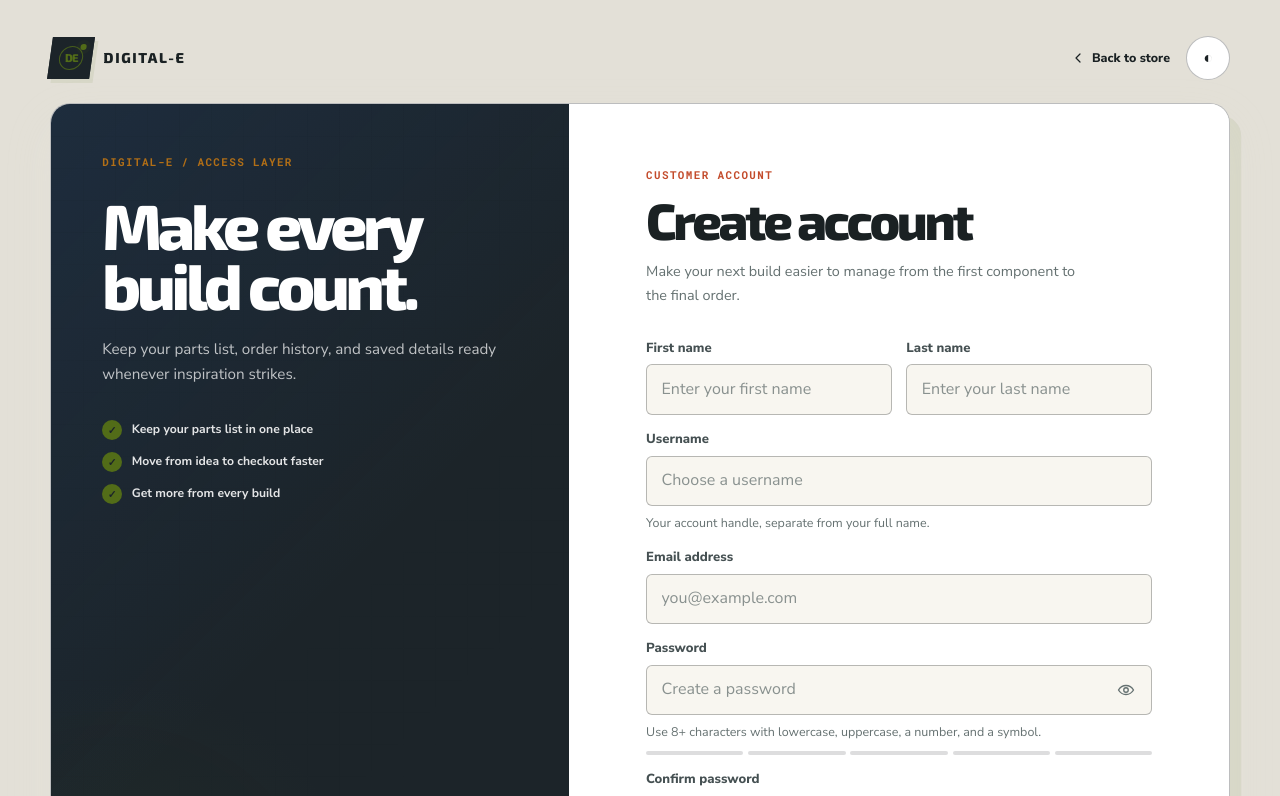
Scenario: SignupPage Firebase verification › enables signup only after every mandatory field is filled
This screenshot has width=1280, height=796.
Type "Demo" into the field labelled "First name" at (769, 390), box [646, 364, 892, 415]
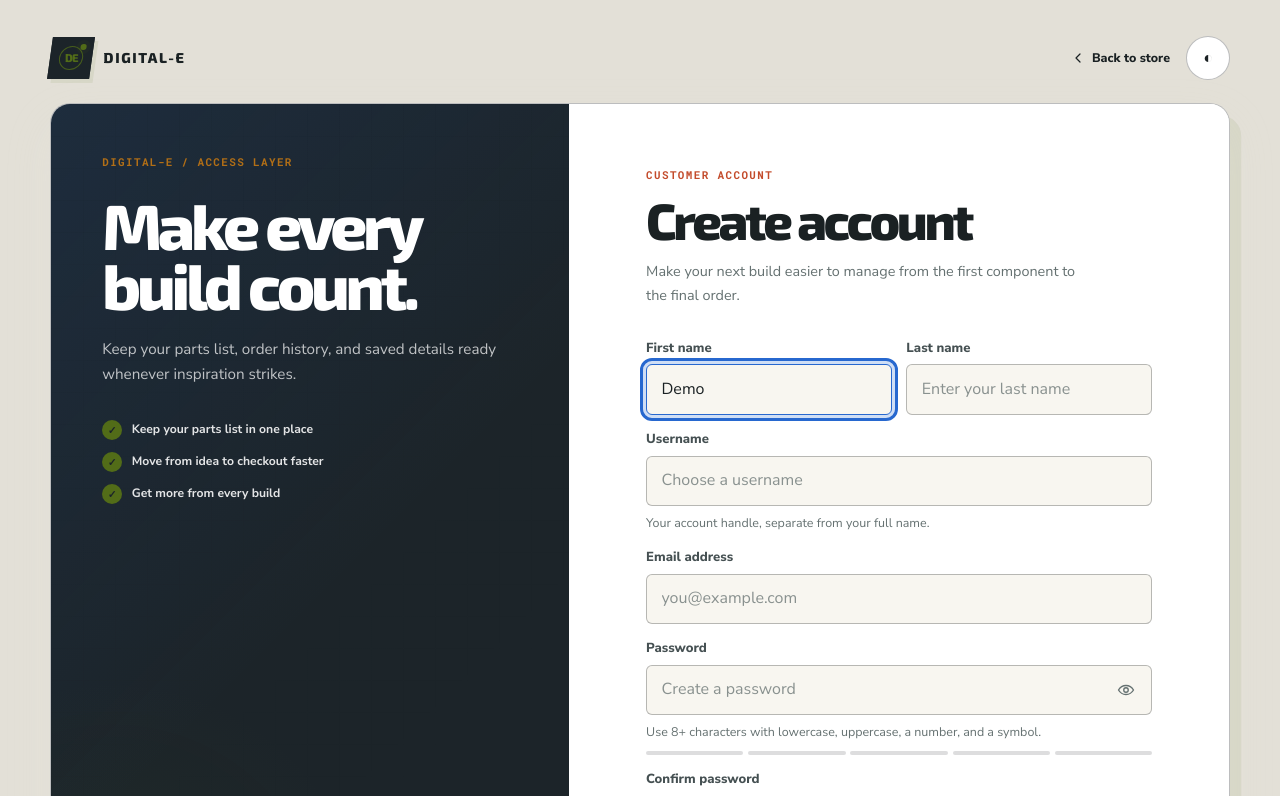
Type "Customer" into the field labelled "Last name" at (1029, 390), box [906, 364, 1152, 415]
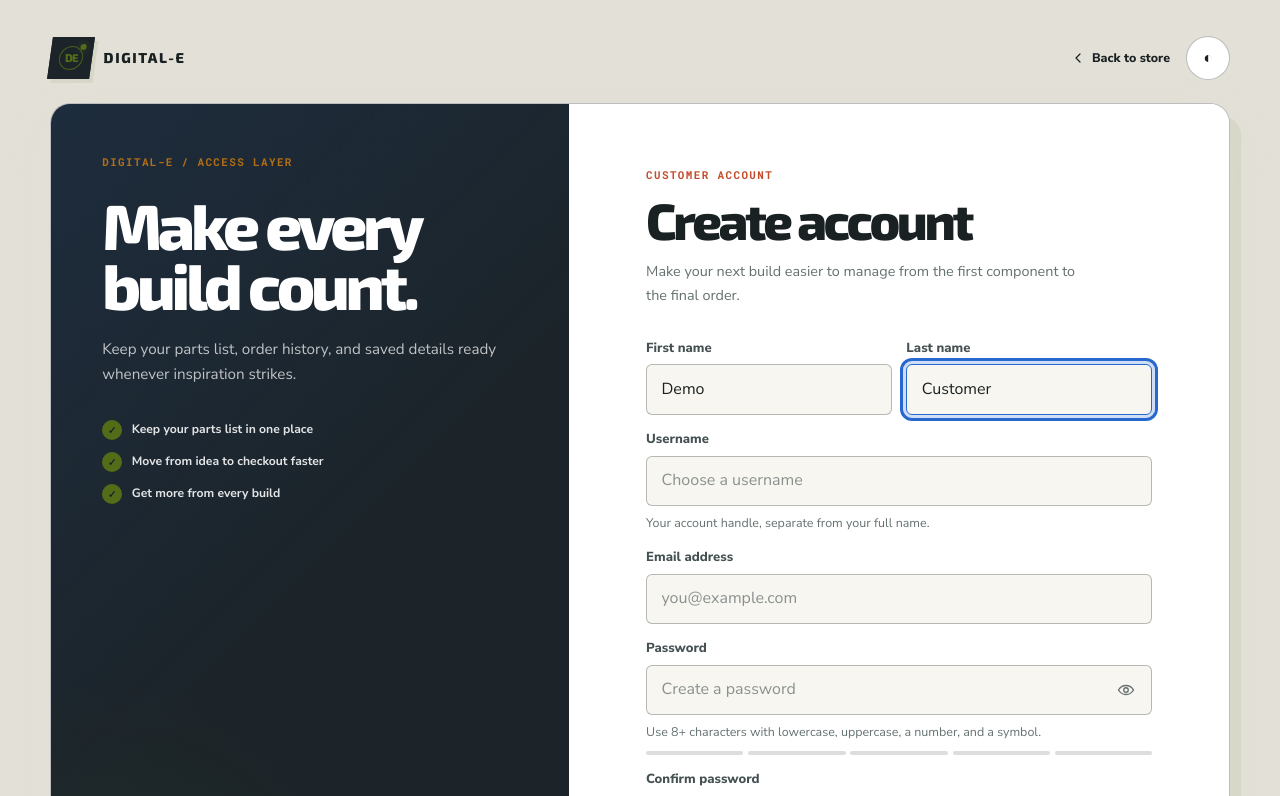
Type "customer" into the field labelled "Username" at (899, 481), box [646, 456, 1152, 506]
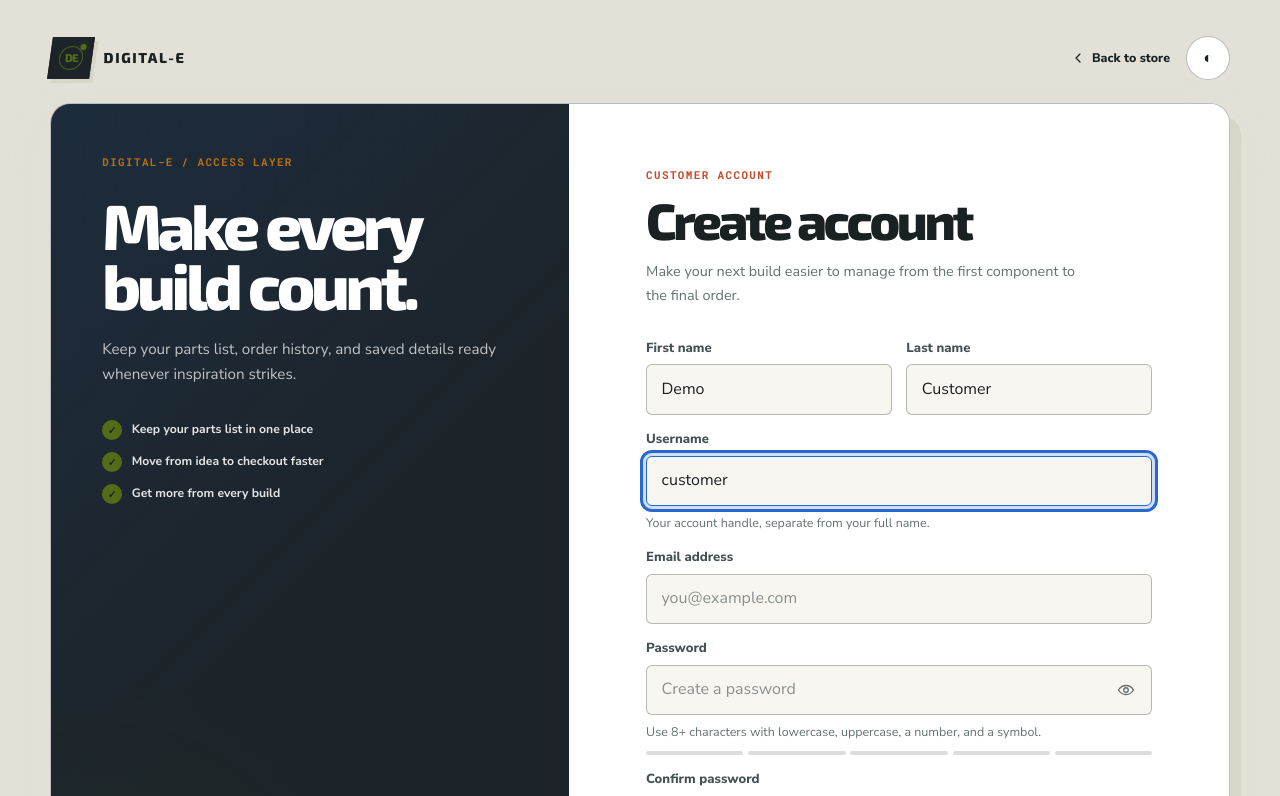
Type "customer@example.com" into the field labelled "Email address" at (899, 599), box [646, 574, 1152, 624]
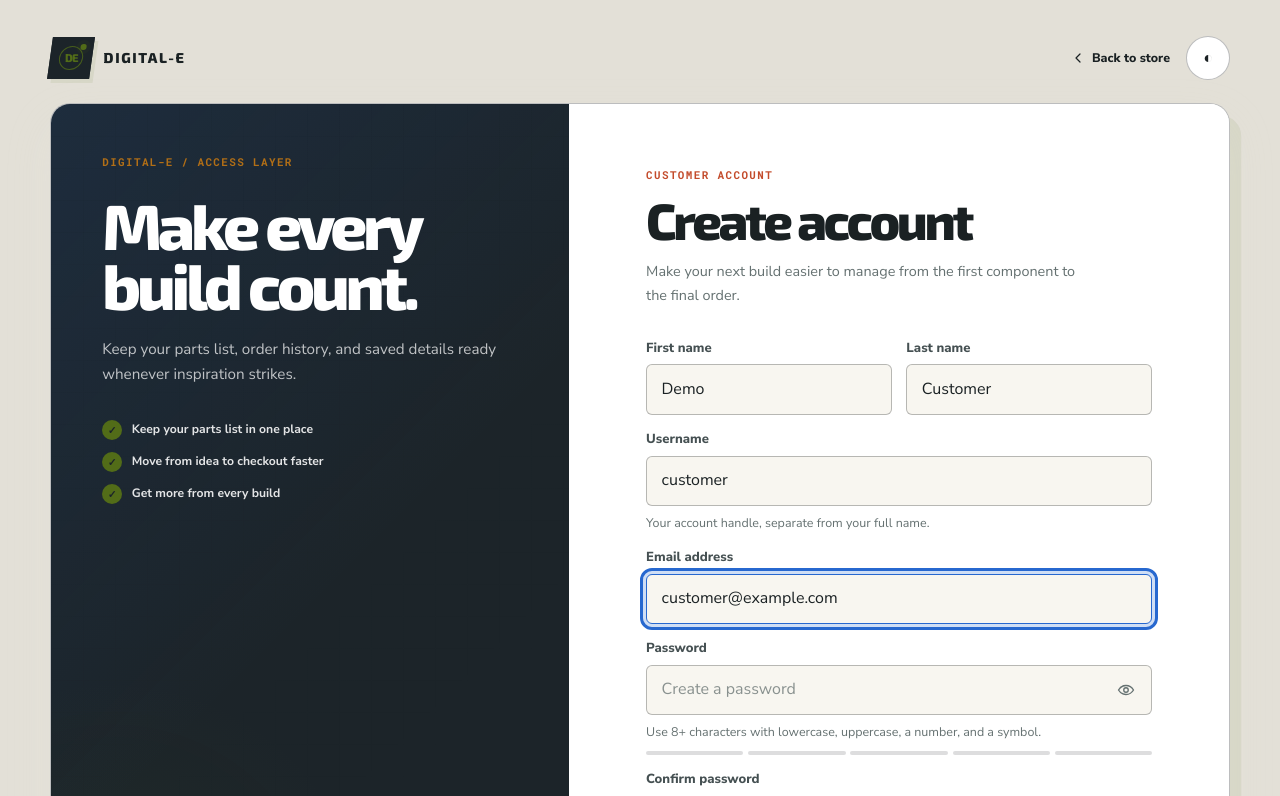
Type "Password1!" into the password field labelled "Password" at (899, 690), box [646, 665, 1152, 715]
(page scrolled)
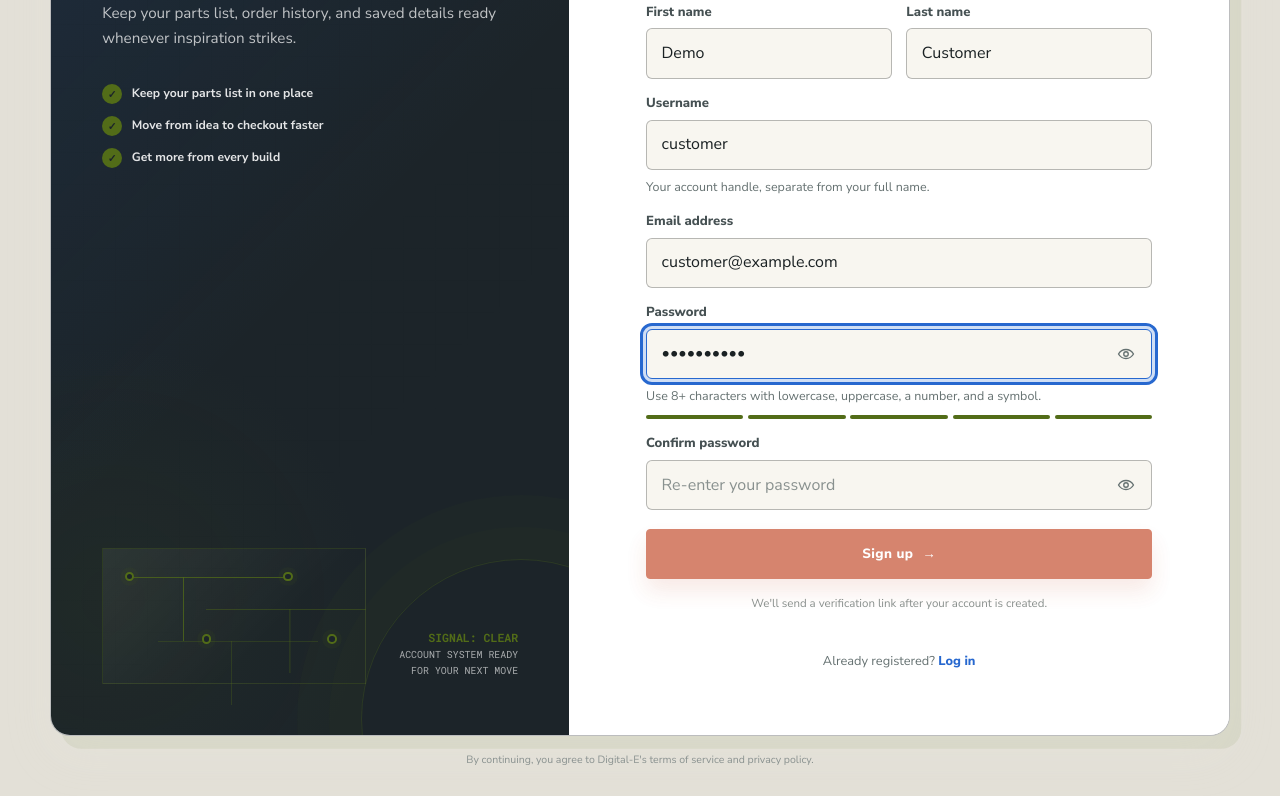
Check: the button "Sign up →" is disabled, box [646, 529, 1152, 579]
Type "Password1!" into the password field labelled "Confirm password" at (899, 485), box [646, 460, 1152, 510]
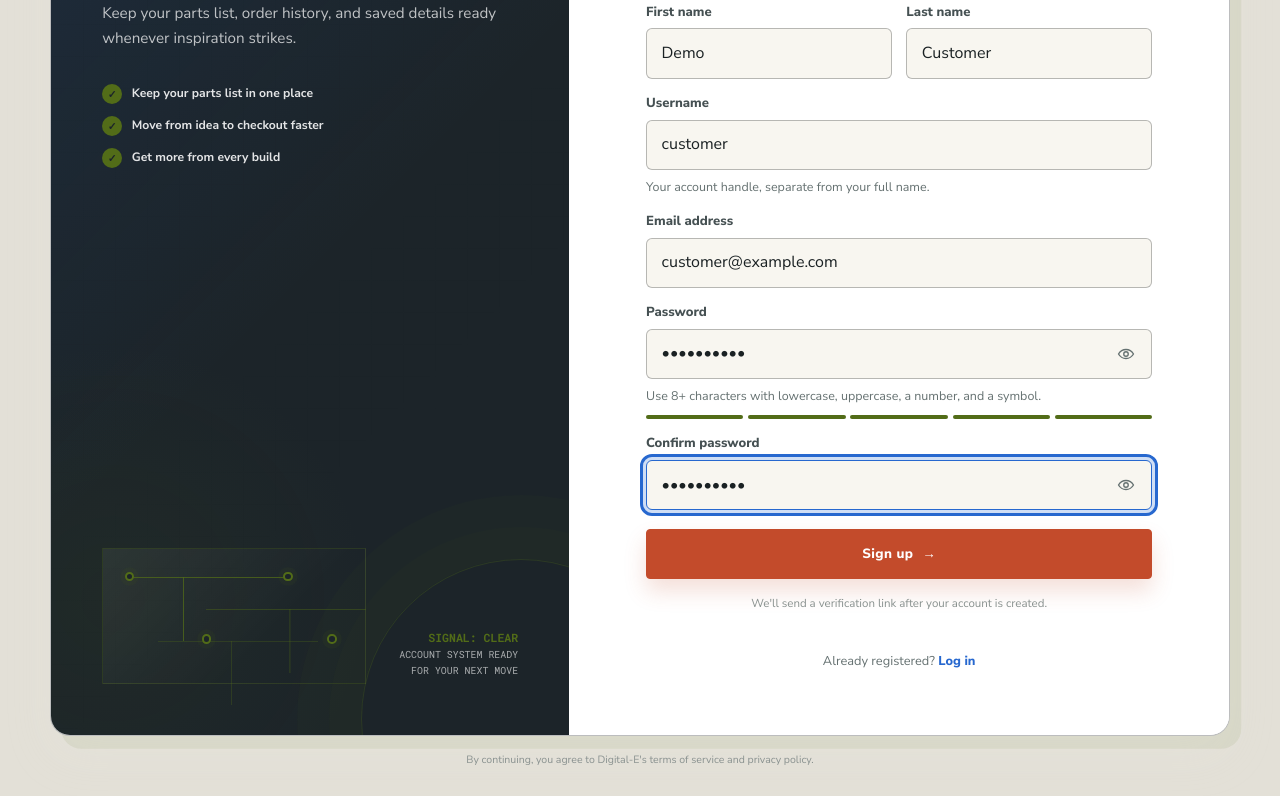
Check: the button "Sign up →" is enabled, box [646, 529, 1152, 579]
